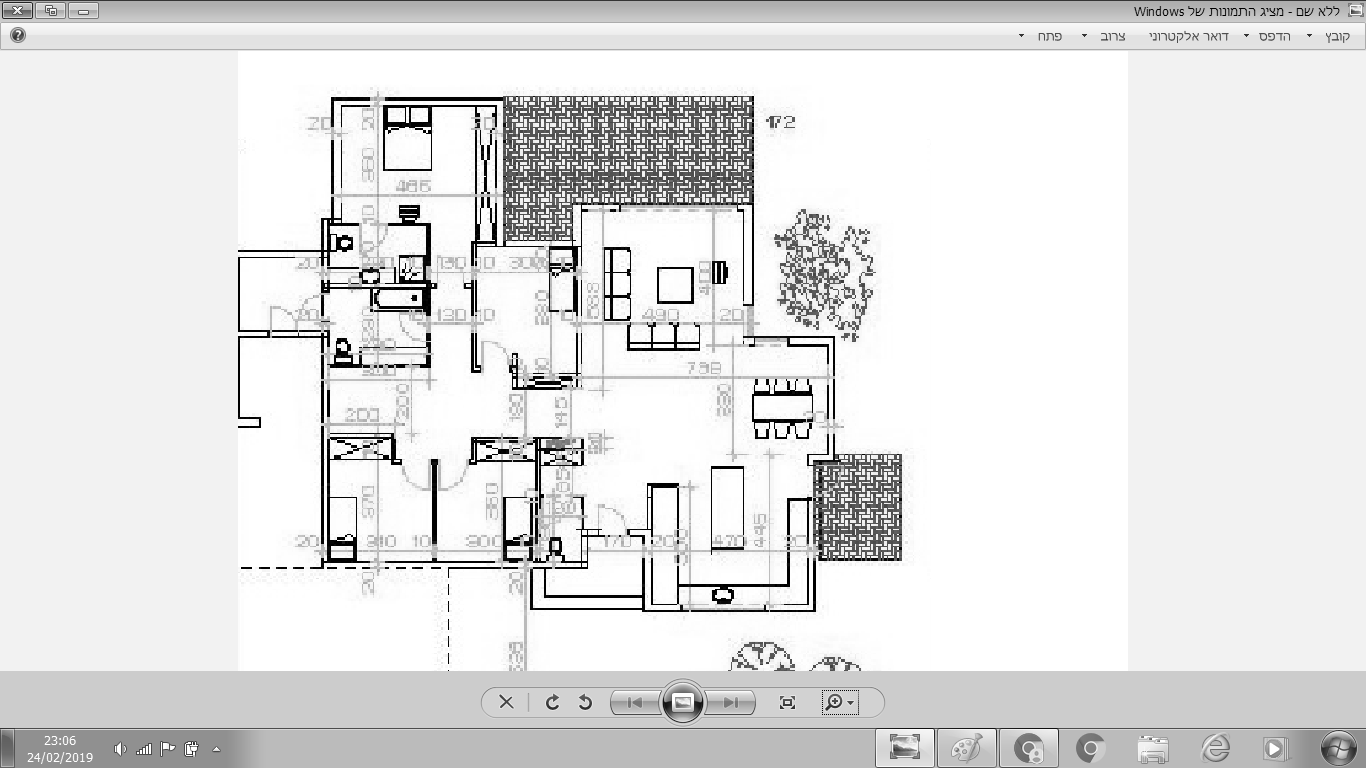door: (394, 458, 434, 495), (435, 457, 475, 494), (476, 341, 516, 378), (593, 501, 633, 538), (266, 302, 306, 339), (355, 217, 395, 254), (396, 308, 436, 345)
